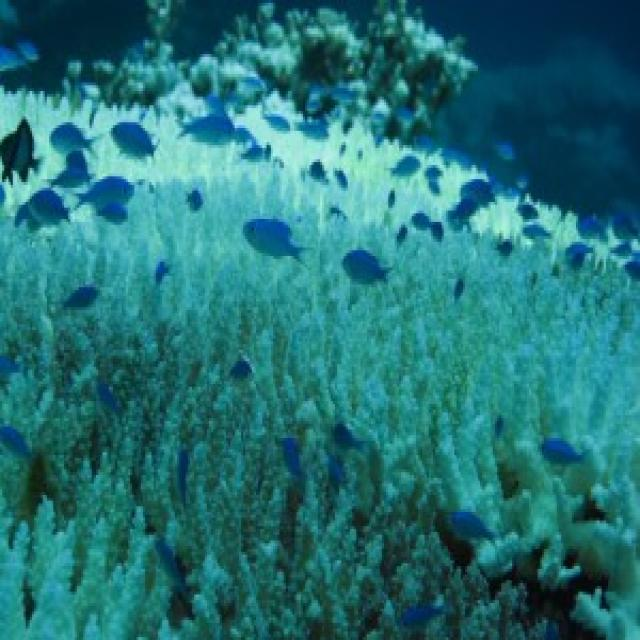Bleached: (3, 223, 639, 638), (436, 396, 639, 638)
